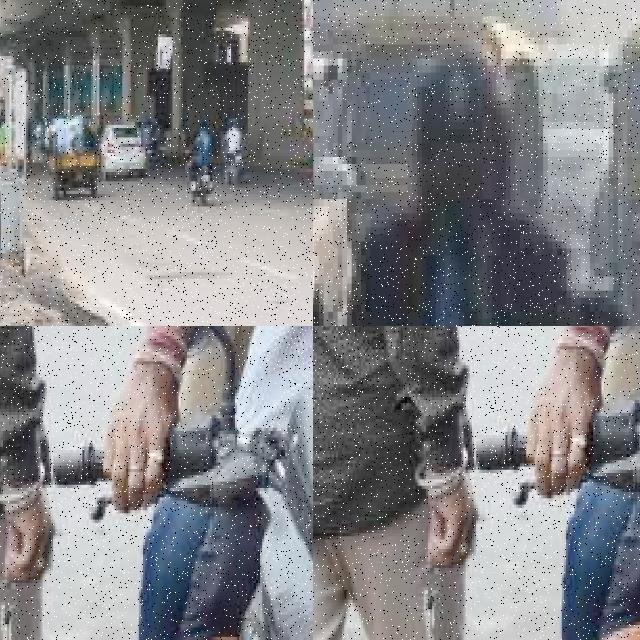bike: (40, 358, 313, 640), (463, 343, 640, 640), (181, 150, 220, 219), (308, 140, 313, 200)
